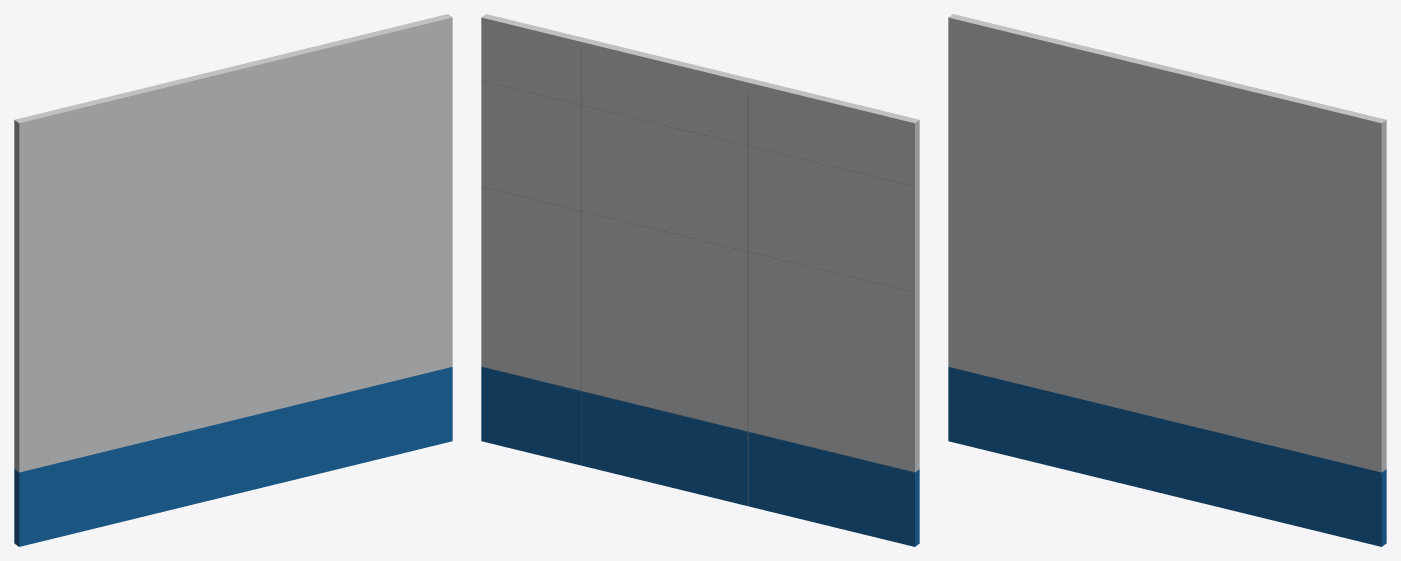
Rendered from SM_MPR4_Facade_00.fbx.
The picture shows the model from 3 angles, left to right: view 1: azimuth 30°, elevation 25°; view 2: azimuth 150°, elevation 25°; view 3: azimuth 330°, elevation 25°; orthographic projection.
Parts seen in each view (by area): view 1: SM_MPR4_Facade_00; view 2: SM_MPR4_Facade_00; view 3: SM_MPR4_Facade_00.
Boxes of the visible parts, <box> form: SM_MPR4_Facade_00: <box>14,14,452,546</box>; SM_MPR4_Facade_00: <box>481,14,919,546</box>; SM_MPR4_Facade_00: <box>948,14,1386,546</box>.
Size of the model in its own units: 1585 by 31.44 by 1480.
